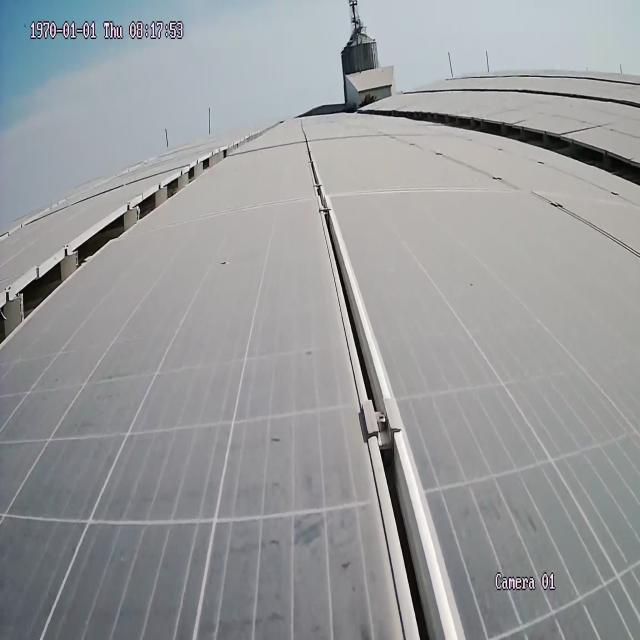interior panel: (303, 137, 462, 639)
outher panel: (0, 131, 267, 344), (370, 109, 640, 188)
